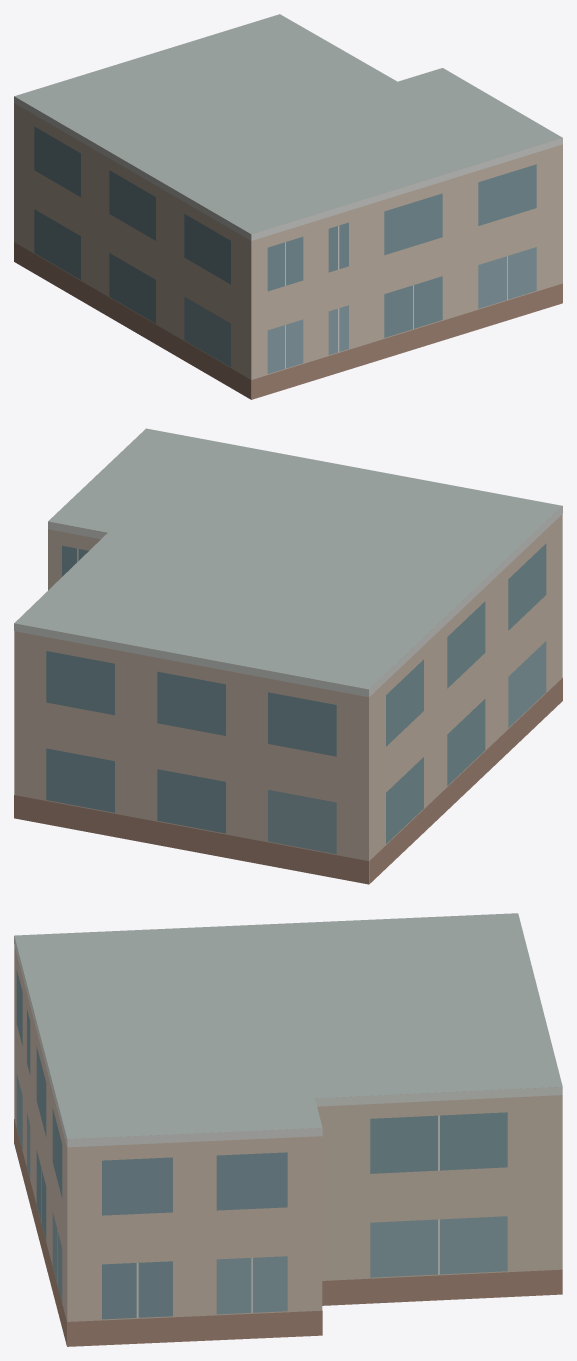
Rendered from survey-upis-32985045.glb.
3 views of the same model, one above another, from view 1: azimuth 30°, elevation 25°; view 2: azimuth 150°, elevation 25°; view 3: azimuth 270°, elevation 25° (orthographic). The views are drawn at different scales.
Visible parts, largest first — view 1: survey-upis-32985045.tmp; view 2: survey-upis-32985045.tmp; view 3: survey-upis-32985045.tmp.
Boxes of the visible parts, bbox=[...] form: survey-upis-32985045.tmp: bbox=[14, 14, 562, 399]; survey-upis-32985045.tmp: bbox=[14, 428, 562, 884]; survey-upis-32985045.tmp: bbox=[14, 913, 562, 1346].
Bounding box in the file's own units: 14.25 × 6.1 × 14.62.
